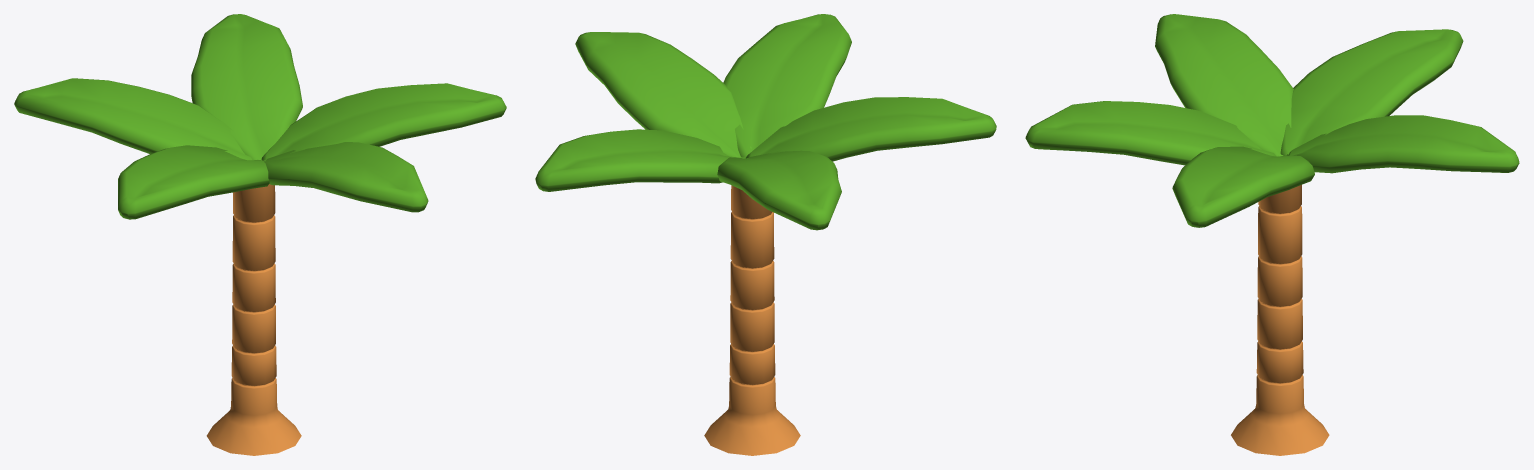
The model's file is Palm1.fbx.
3 renders of one model, left to right at view 1: azimuth 30°, elevation 25°; view 2: azimuth 150°, elevation 25°; view 3: azimuth 270°, elevation 25°, orthographic. The views are drawn at different scales.
Parts seen in each view (by area): view 1: Tree; view 2: Tree; view 3: Tree.
Boxes of the visible parts, bbox=[...] form: Tree: bbox=[14, 14, 506, 455]; Tree: bbox=[535, 14, 996, 455]; Tree: bbox=[1025, 14, 1519, 455].
Bounding box in the file's own units: 915 × 712 × 948.
